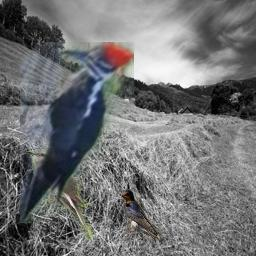Cuckoo: (26, 151, 93, 241)
Swallow: (121, 189, 164, 245)
Woodpecker: (20, 42, 134, 223)
